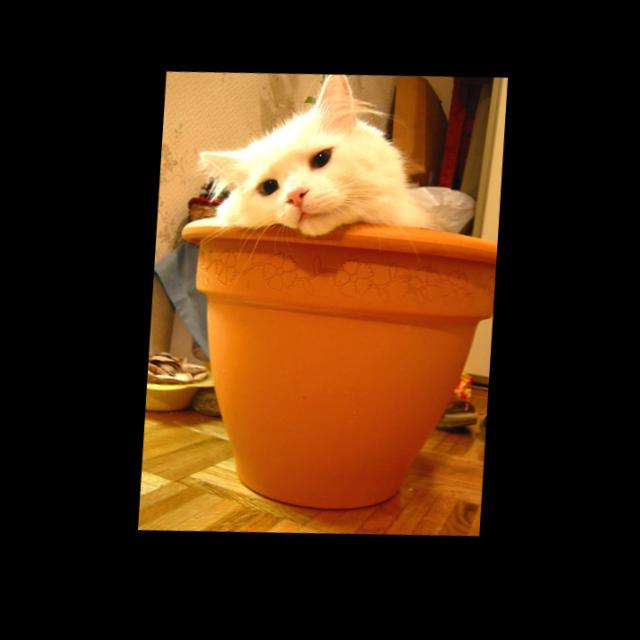animals: (194, 68, 356, 214)
